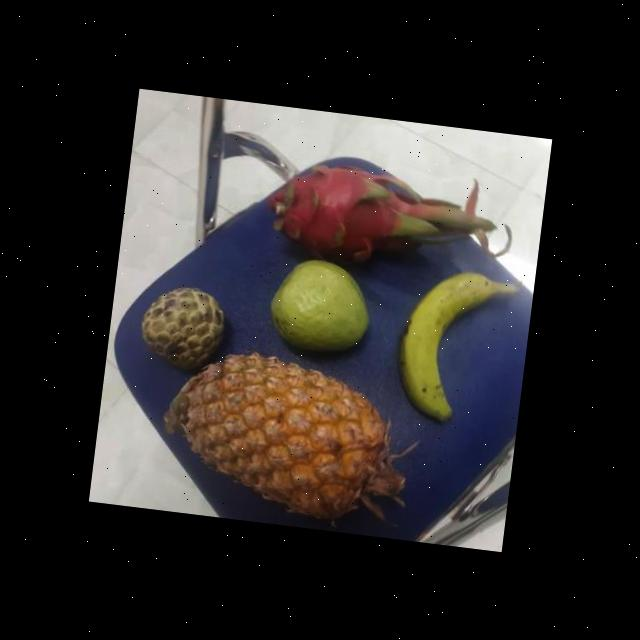Sakya fruit: (136, 283, 236, 375)
banana: (394, 266, 507, 426)
guava: (266, 257, 378, 358)
pineapple: (170, 345, 413, 520)
pitaya: (268, 154, 432, 276)
